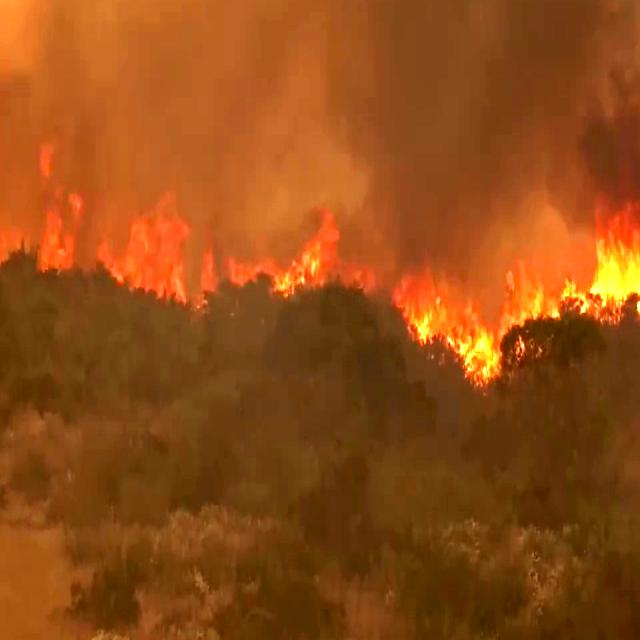fire: (395, 229, 498, 396), (536, 204, 640, 332), (267, 211, 349, 306)
smoke: (400, 0, 640, 183)
